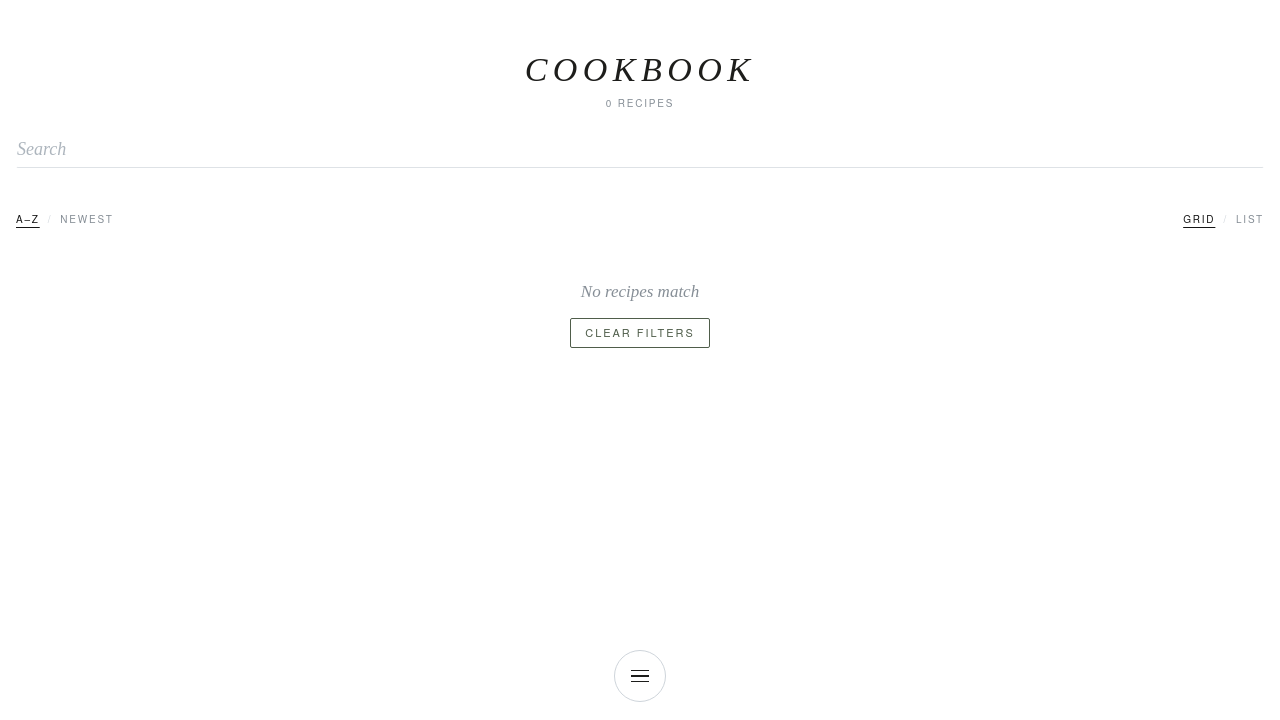
Test: member shell: the bottom button and the menu overlay › the bottom button opens the menu, with Cookbook, Data and Account
This screenshot has width=1280, height=720.
Click the button named "Menu". click: point(640, 676)
box: [614,650,666,702]
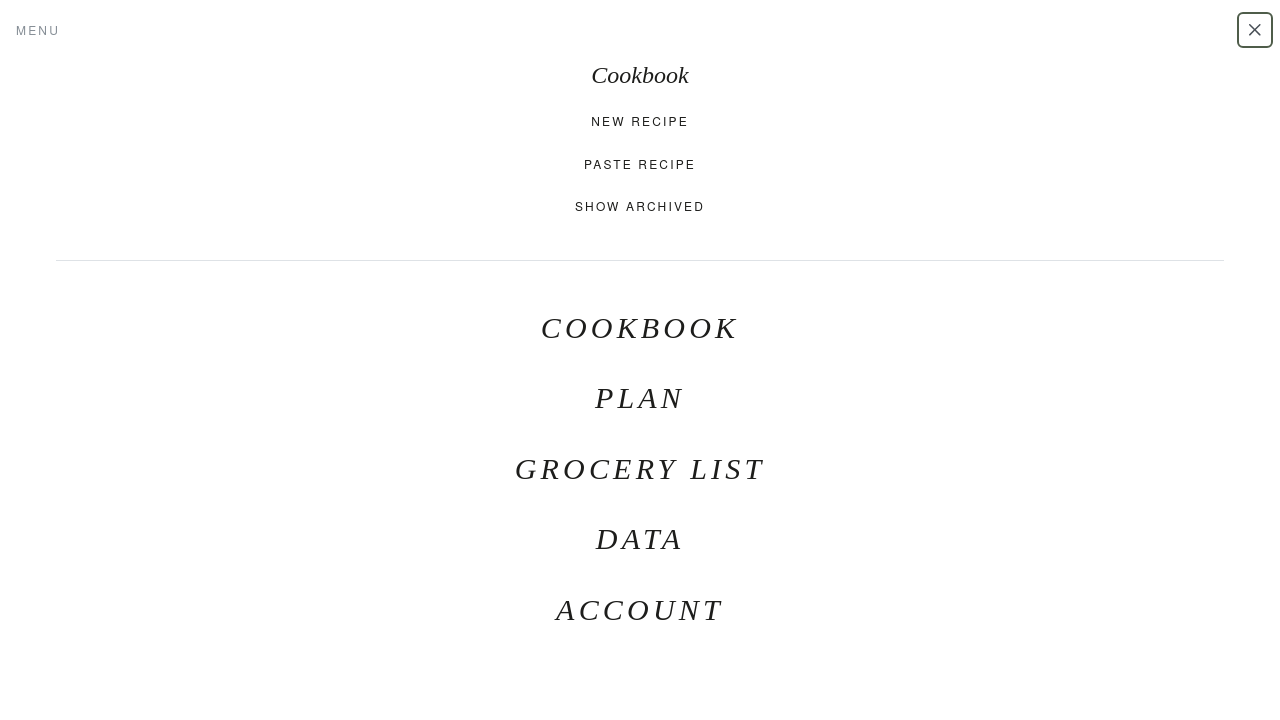
Now the button "Cookbook" is shown, box [16,293,1264,363]
Now the button "Data" is shown, box [16,504,1264,575]
Now the button "Account" is shown, box [16,575,1264,645]
